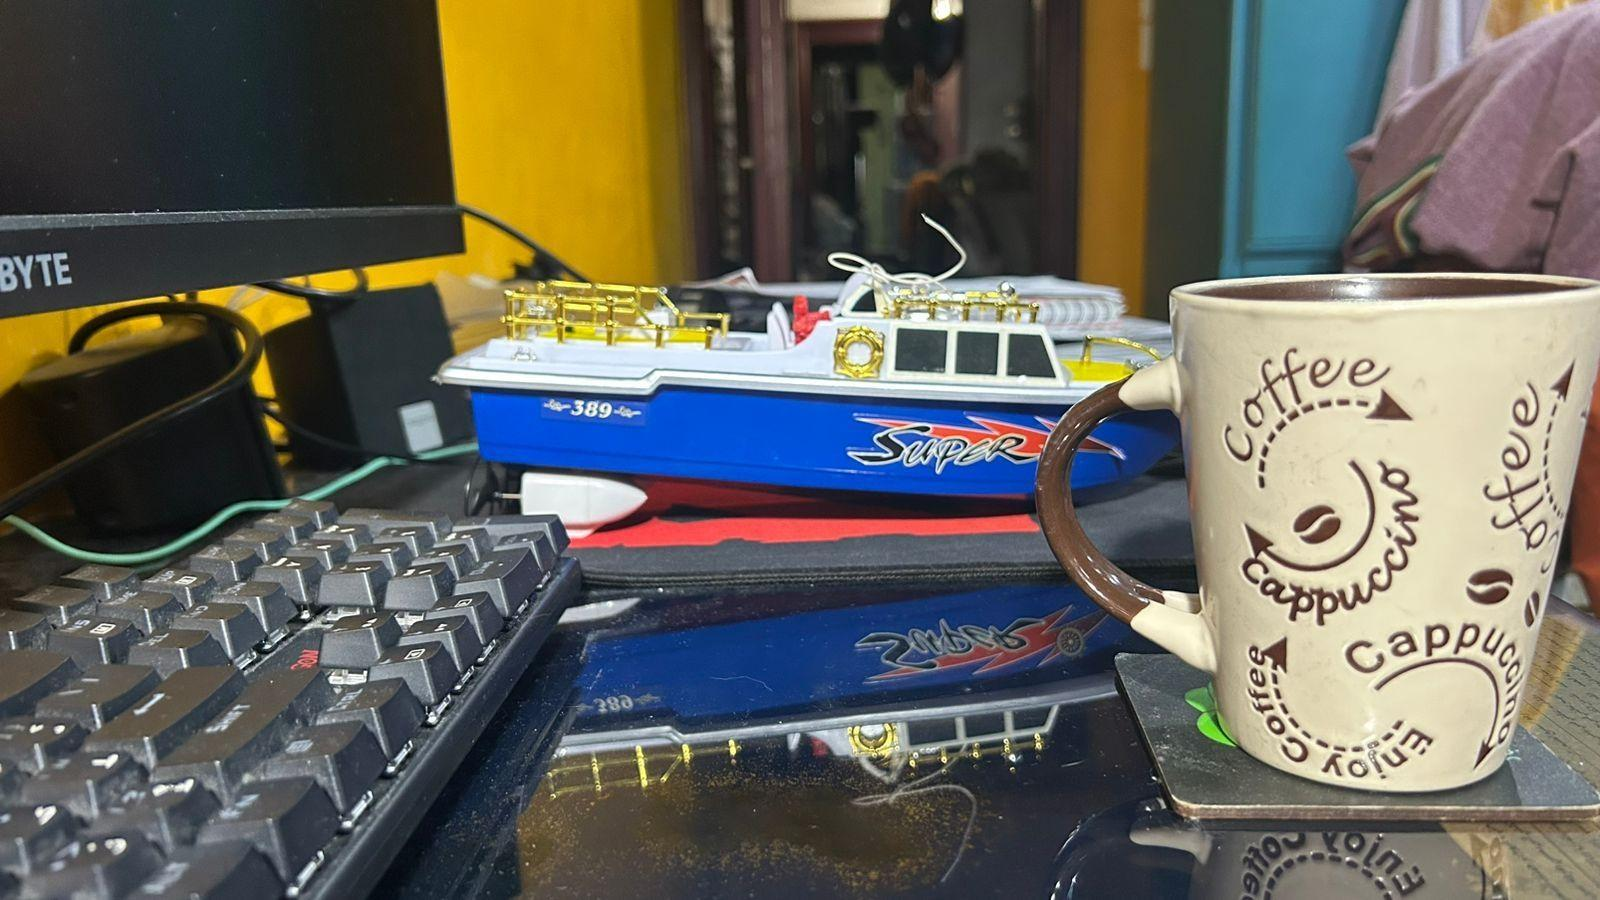Boat: (429, 266, 1144, 540)
